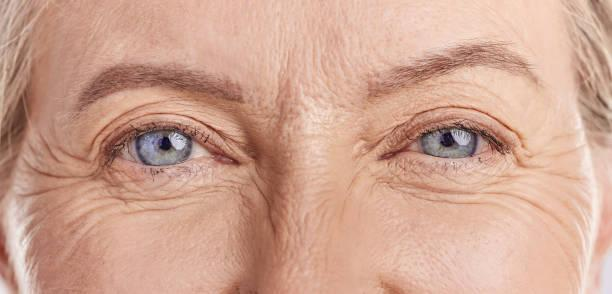Dry-Skin: (315, 169, 592, 281), (15, 169, 276, 280)
